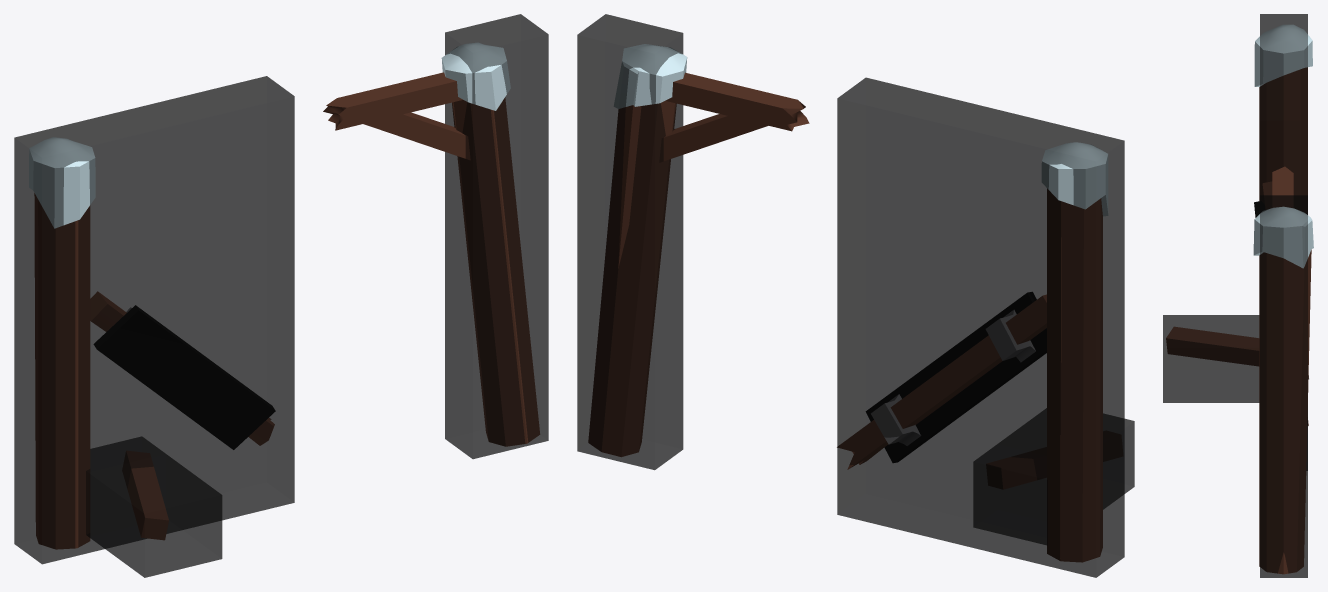
File: WoodenSign.fbx
3 renders of one model, left to right at view 1: azimuth 30°, elevation 25°; view 2: azimuth 150°, elevation 25°; view 3: azimuth 270°, elevation 25°, orthographic. The views are drawn at different scales.
Parts seen in each view (by area): view 1: WoodenSign_BBox1, WoodenSign, WoodenSign_BBox, WoodenSign_BBox2; view 2: WoodenSign_BBox1, WoodenSign, WoodenSign_BBox, WoodenSign_BBox2; view 3: WoodenSign, WoodenSign_BBox, WoodenSign_BBox2, WoodenSign_BBox1.
Part boxes in pixels (x1,y1,x2,y2): WoodenSign_BBox1: (14,76,294,564); WoodenSign: (29,42,539,549); WoodenSign_BBox: (445,14,548,459); WoodenSign_BBox2: (86,436,222,577); WoodenSign_BBox1: (837,77,1124,577); WoodenSign: (588,44,1122,562); WoodenSign_BBox: (577,14,683,470); WoodenSign_BBox2: (973,408,1134,545); WoodenSign: (1166,24,1313,574); WoodenSign_BBox: (1260,195,1307,577); WoodenSign_BBox2: (1163,315,1259,402); WoodenSign_BBox1: (1260,14,1307,470).
Bounding box in the file's own units: 16.54 × 12.62 × 4.92.
Materials: 2 (1 with a texture image).
